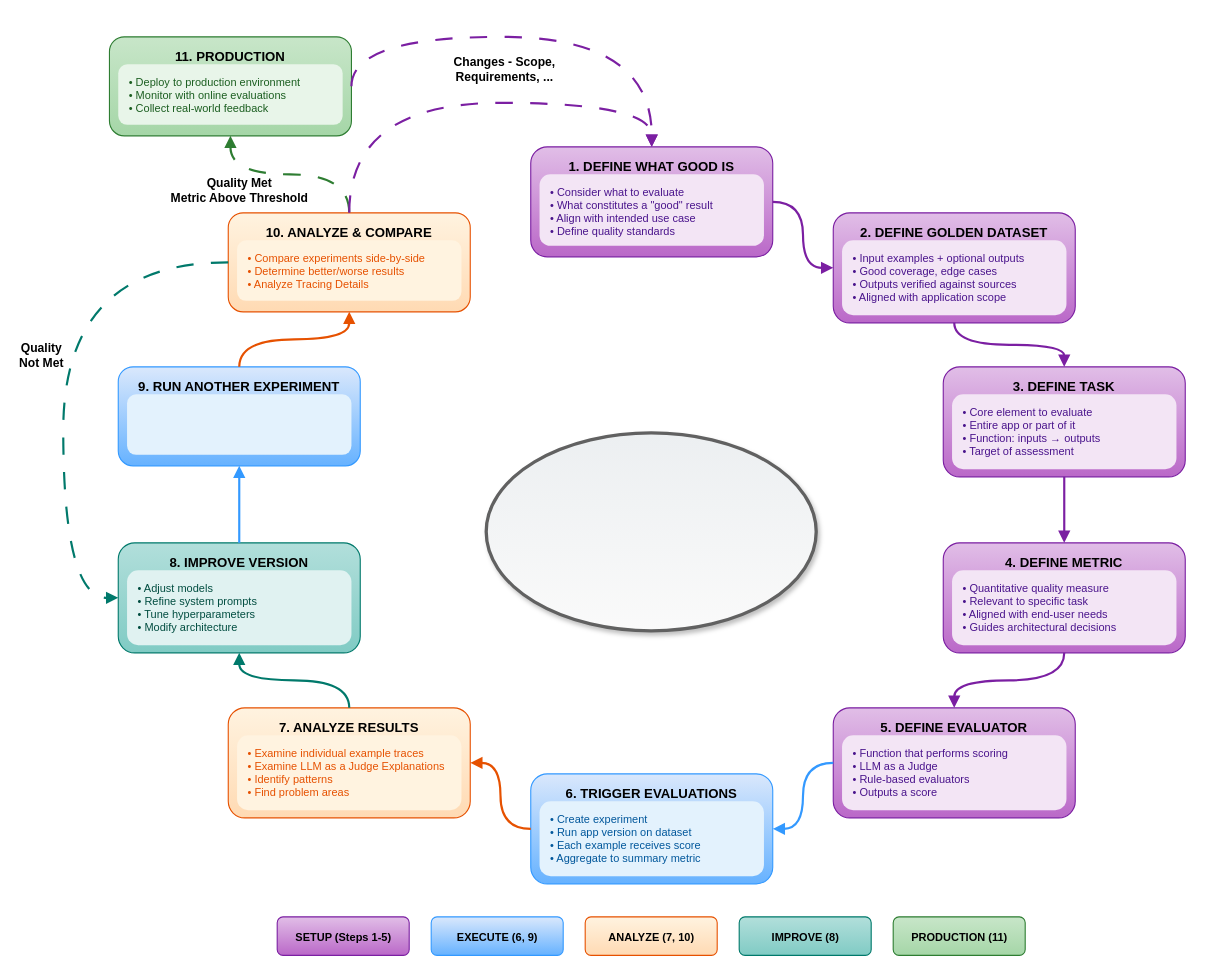
Image size: 1205x975. Some labels were removed from this diagram. Each missing label, with the centre of its shape:
EVALUATION CYCLE: point (652, 533)
• Test improved version • Use same dataset • Same evaluation setup: point (239, 424)
